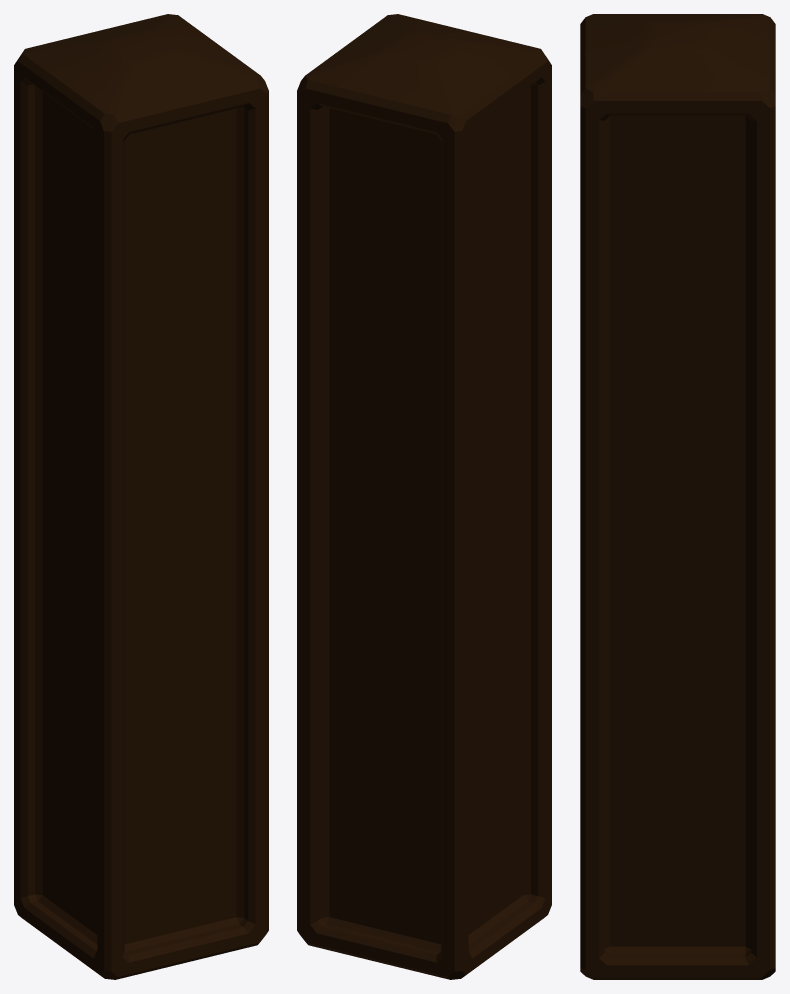
The model's file is totempole_01.FBX.
3 views of the same model, side by side, from view 1: azimuth 30°, elevation 25°; view 2: azimuth 150°, elevation 25°; view 3: azimuth 270°, elevation 25° (orthographic). The views are drawn at different scales.
Visible parts, largest first — view 1: Box001; view 2: Box001; view 3: Box001.
Part boxes in pixels (x1=…): Box001: x1=14, y1=14, x2=268, y2=979; Box001: x1=297, y1=14, x2=551, y2=979; Box001: x1=580, y1=14, x2=775, y2=979.
Bounding box in the file's own units: 0.2 × 1.02 × 0.2.
